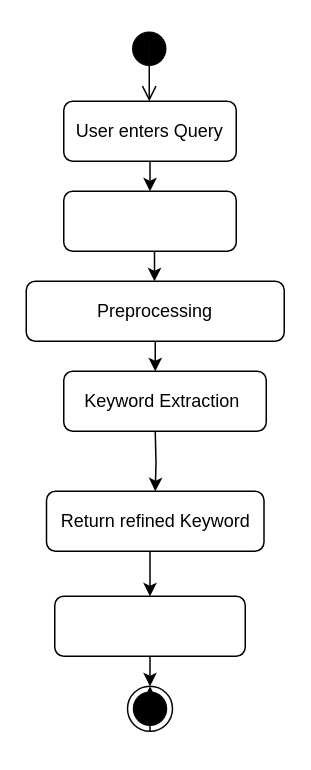
The diagram is 311 pixels wide and 770 high, and some of its shapes have lost their labels. Here are the shapes that lost their labels. From the top down, the centre of each, then its label:
At [149,220]: "Query processor".
At [149,625]: "Display results to user".
